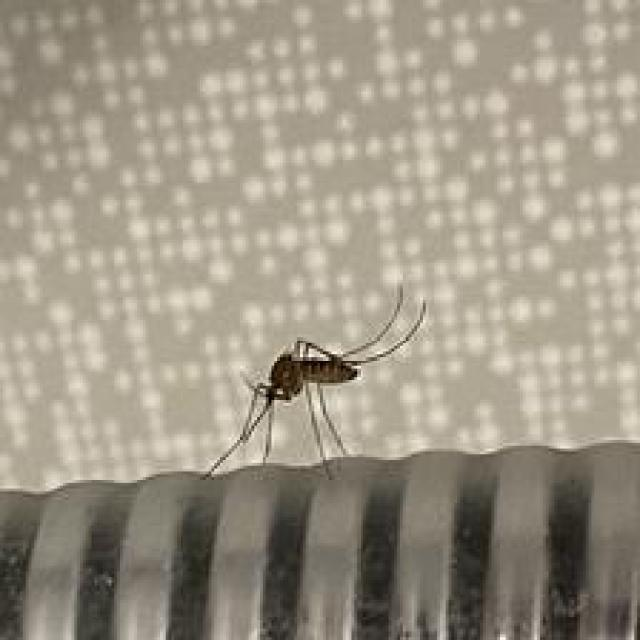Culex: (200, 282, 429, 482)
